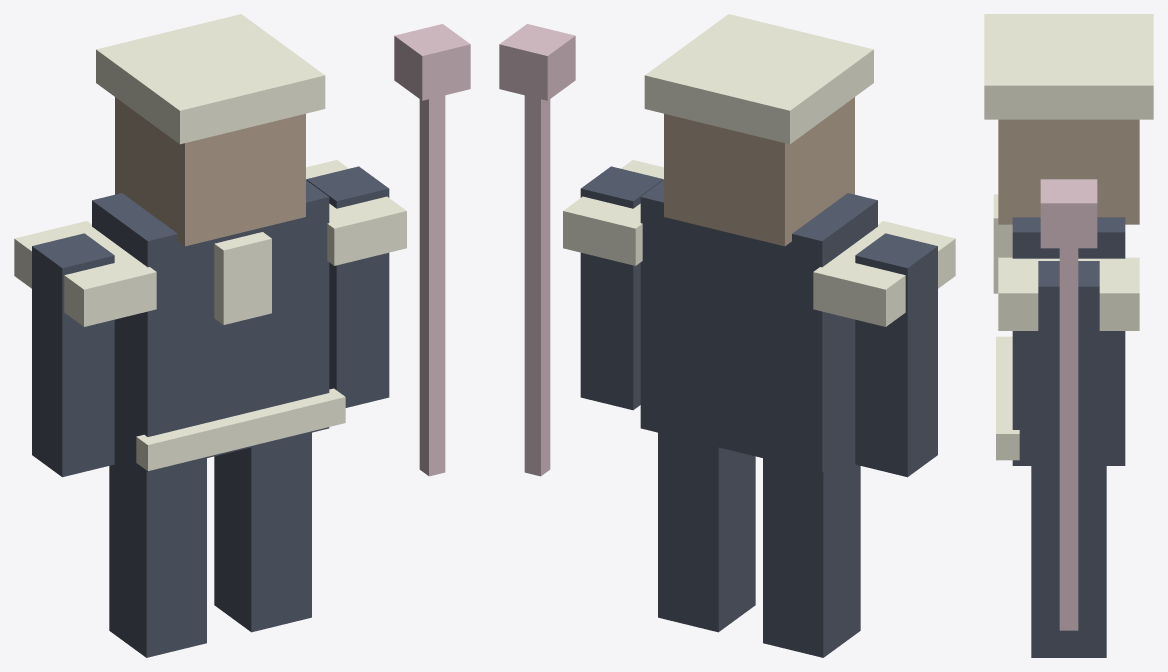
The model's file is 10_eryk_whispercoil_fixer_of_cargo.glb.
The picture shows the model from 3 angles, left to right: view 1: azimuth 30°, elevation 25°; view 2: azimuth 150°, elevation 25°; view 3: azimuth 270°, elevation 25°; orthographic projection.
Parts seen in each view (by area): view 1: Eryk Whispercoil, Fixer of Cargo; view 2: Eryk Whispercoil, Fixer of Cargo; view 3: Eryk Whispercoil, Fixer of Cargo.
Part boxes in pixels (left/top/right/bottom): Eryk Whispercoil, Fixer of Cargo: left=14, top=14, right=470, bottom=657; Eryk Whispercoil, Fixer of Cargo: left=499, top=14, right=955, bottom=657; Eryk Whispercoil, Fixer of Cargo: left=984, top=14, right=1153, bottom=657.
Bounding box in the file's own units: 1.07 × 1.4 × 0.3794.
